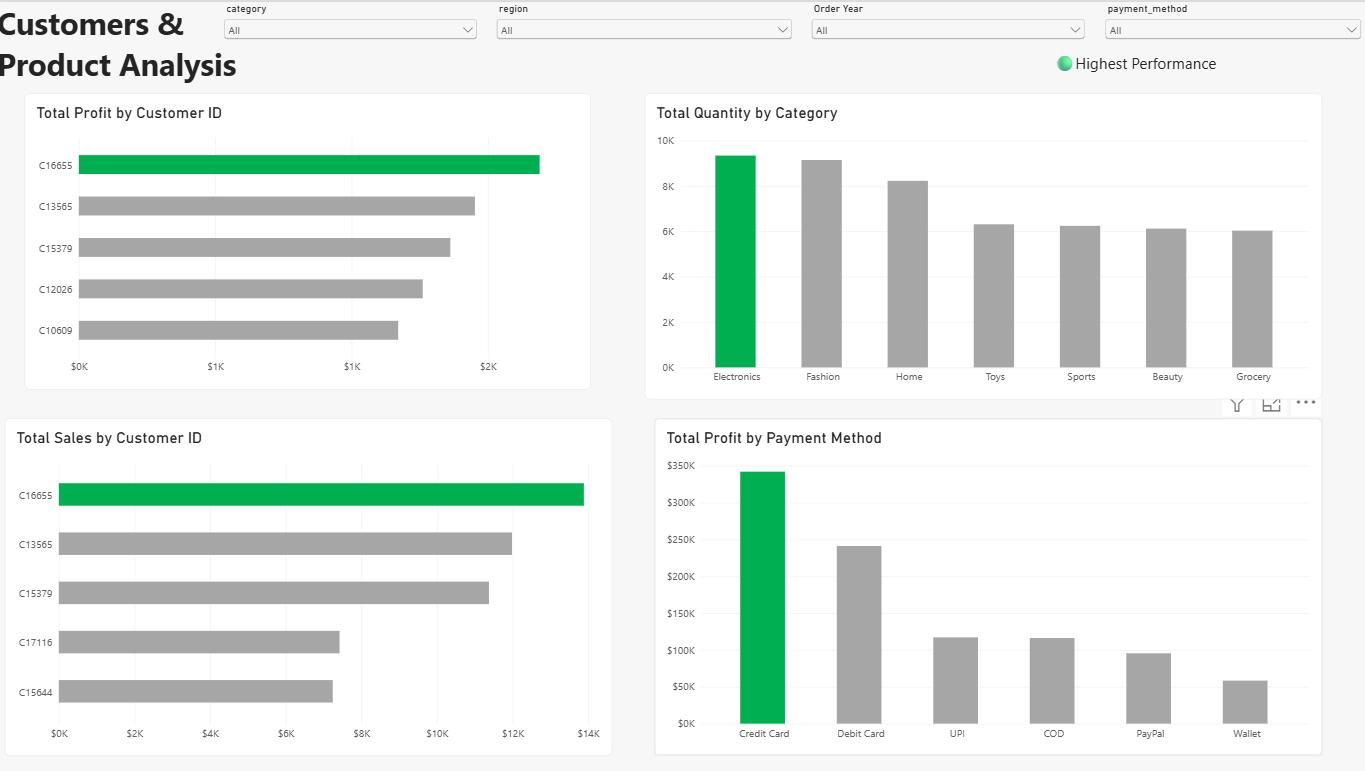

The page's visual inventory and layout, read from the dashboard file:
{"tool":"powerbi","page":{"name":"Customer & Product Analysis","canvas":[1920,1080],"ordinal":2},"visuals":[{"type":"textbox","box":[10,0,280,280],"z":0},{"type":"textbox","box":[0,0,357.6,139.5],"z":1000},{"type":"slicer","fields":{"Values":["ecommerce_sales_34500.Order Year"]},"box":[1132,0,390.7,69.8],"z":2000},{"type":"slicer","fields":{"Values":["ecommerce_sales_34500.category"]},"box":[312.2,0,362.8,59.3],"z":3000},{"type":"slicer","fields":{"Values":["ecommerce_sales_34500.region"]},"box":[692.4,0,422.1,59.3],"z":4000},{"type":"slicer","fields":{"Values":["ecommerce_sales_34500.payment_method"]},"box":[1541.9,0,366.3,69.8],"z":5000},{"type":"clusteredBarChart","title":"Total Profit by Customer ID","fields":{"Category":["ecommerce_sales_34500.customer_id"],"Y":["Sum(ecommerce_sales_34500.profit)"]},"box":[38.4,127.3,790.1,413.4],"z":6000},{"type":"clusteredBarChart","title":"Total Sales by Customer ID","fields":{"Category":["ecommerce_sales_34500.customer_id"],"Y":["Sum(ecommerce_sales_34500.total_amount)"]},"box":[10.5,580.8,847.7,470.9],"z":7000},{"type":"clusteredColumnChart","title":"Total Profit by Payment Method","fields":{"Category":["ecommerce_sales_34500.payment_method"],"Y":["Sum(ecommerce_sales_34500.profit)"]},"box":[917.4,580.8,931.4,470.9],"z":8000},{"type":"clusteredColumnChart","title":"Total Quantity by Category","fields":{"Y":["Sum(ecommerce_sales_34500.quantity)"],"Category":["ecommerce_sales_34500.category"]},"box":[903.5,127.3,945.4,427.3],"z":9000},{"type":"textbox","box":[1476.1,70.1,397.4,43.4],"z":10000}]}

Visuals, with their boxes in screenshot pixels (x1, y1, x2, y2), scaled from the page's 1920x1080 canvas onto the 1365x771 screenshot:
textbox: locate(7, 0, 206, 200)
textbox: locate(0, 0, 254, 100)
slicer - ecommerce_sales_34500.Order Year: locate(805, 0, 1083, 50)
slicer - ecommerce_sales_34500.category: locate(222, 0, 480, 42)
slicer - ecommerce_sales_34500.region: locate(492, 0, 792, 42)
slicer - ecommerce_sales_34500.payment_method: locate(1096, 0, 1357, 50)
"Total Profit by Customer ID" clusteredBarChart: locate(27, 91, 589, 386)
"Total Sales by Customer ID" clusteredBarChart: locate(7, 415, 610, 751)
"Total Profit by Payment Method" clusteredColumnChart: locate(652, 415, 1314, 751)
"Total Quantity by Category" clusteredColumnChart: locate(642, 91, 1314, 396)
textbox: locate(1049, 50, 1332, 81)
